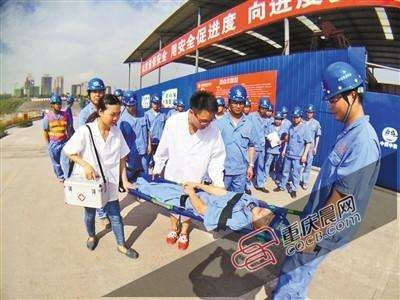blue: (320, 61, 366, 124), (227, 85, 247, 114), (86, 78, 105, 102), (120, 90, 137, 114), (48, 94, 63, 113), (257, 95, 270, 116), (291, 106, 302, 124), (150, 93, 161, 111), (304, 102, 315, 119), (273, 110, 283, 126), (176, 98, 184, 112)
none: (188, 90, 217, 128), (95, 95, 121, 126)
